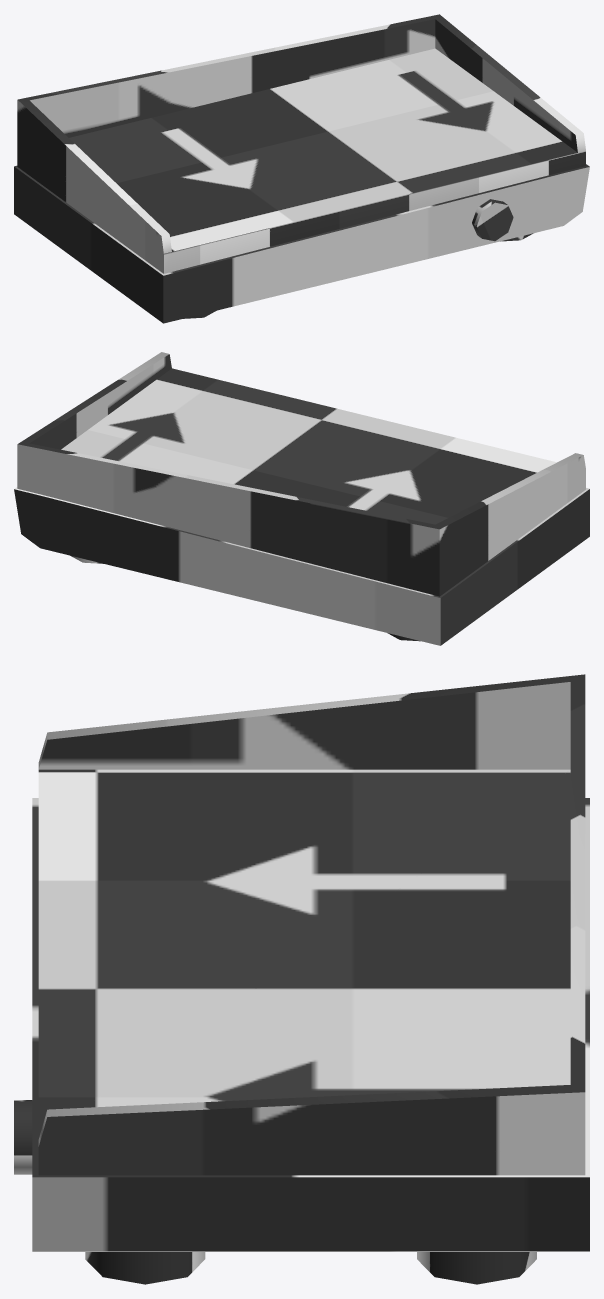
Rendered from SM_GrillPlate_01.fbx.
The picture shows the model from 3 angles, top to bottom: view 1: azimuth 30°, elevation 25°; view 2: azimuth 150°, elevation 25°; view 3: azimuth 270°, elevation 25°; orthographic projection. The views are drawn at different scales.
Parts seen in each view (by area): view 1: SM_GrillPlate_01.001; view 2: SM_GrillPlate_01.001; view 3: SM_GrillPlate_01.001.
Part boxes in pixels (left/top/right/bottom): SM_GrillPlate_01.001: left=14, top=14, right=589, bottom=323; SM_GrillPlate_01.001: left=14, top=352, right=589, bottom=645; SM_GrillPlate_01.001: left=14, top=674, right=589, bottom=1284.
Bounding box in the file's own units: 0.4844 × 0.7731 × 0.2302.
1 material, 1 textured.
